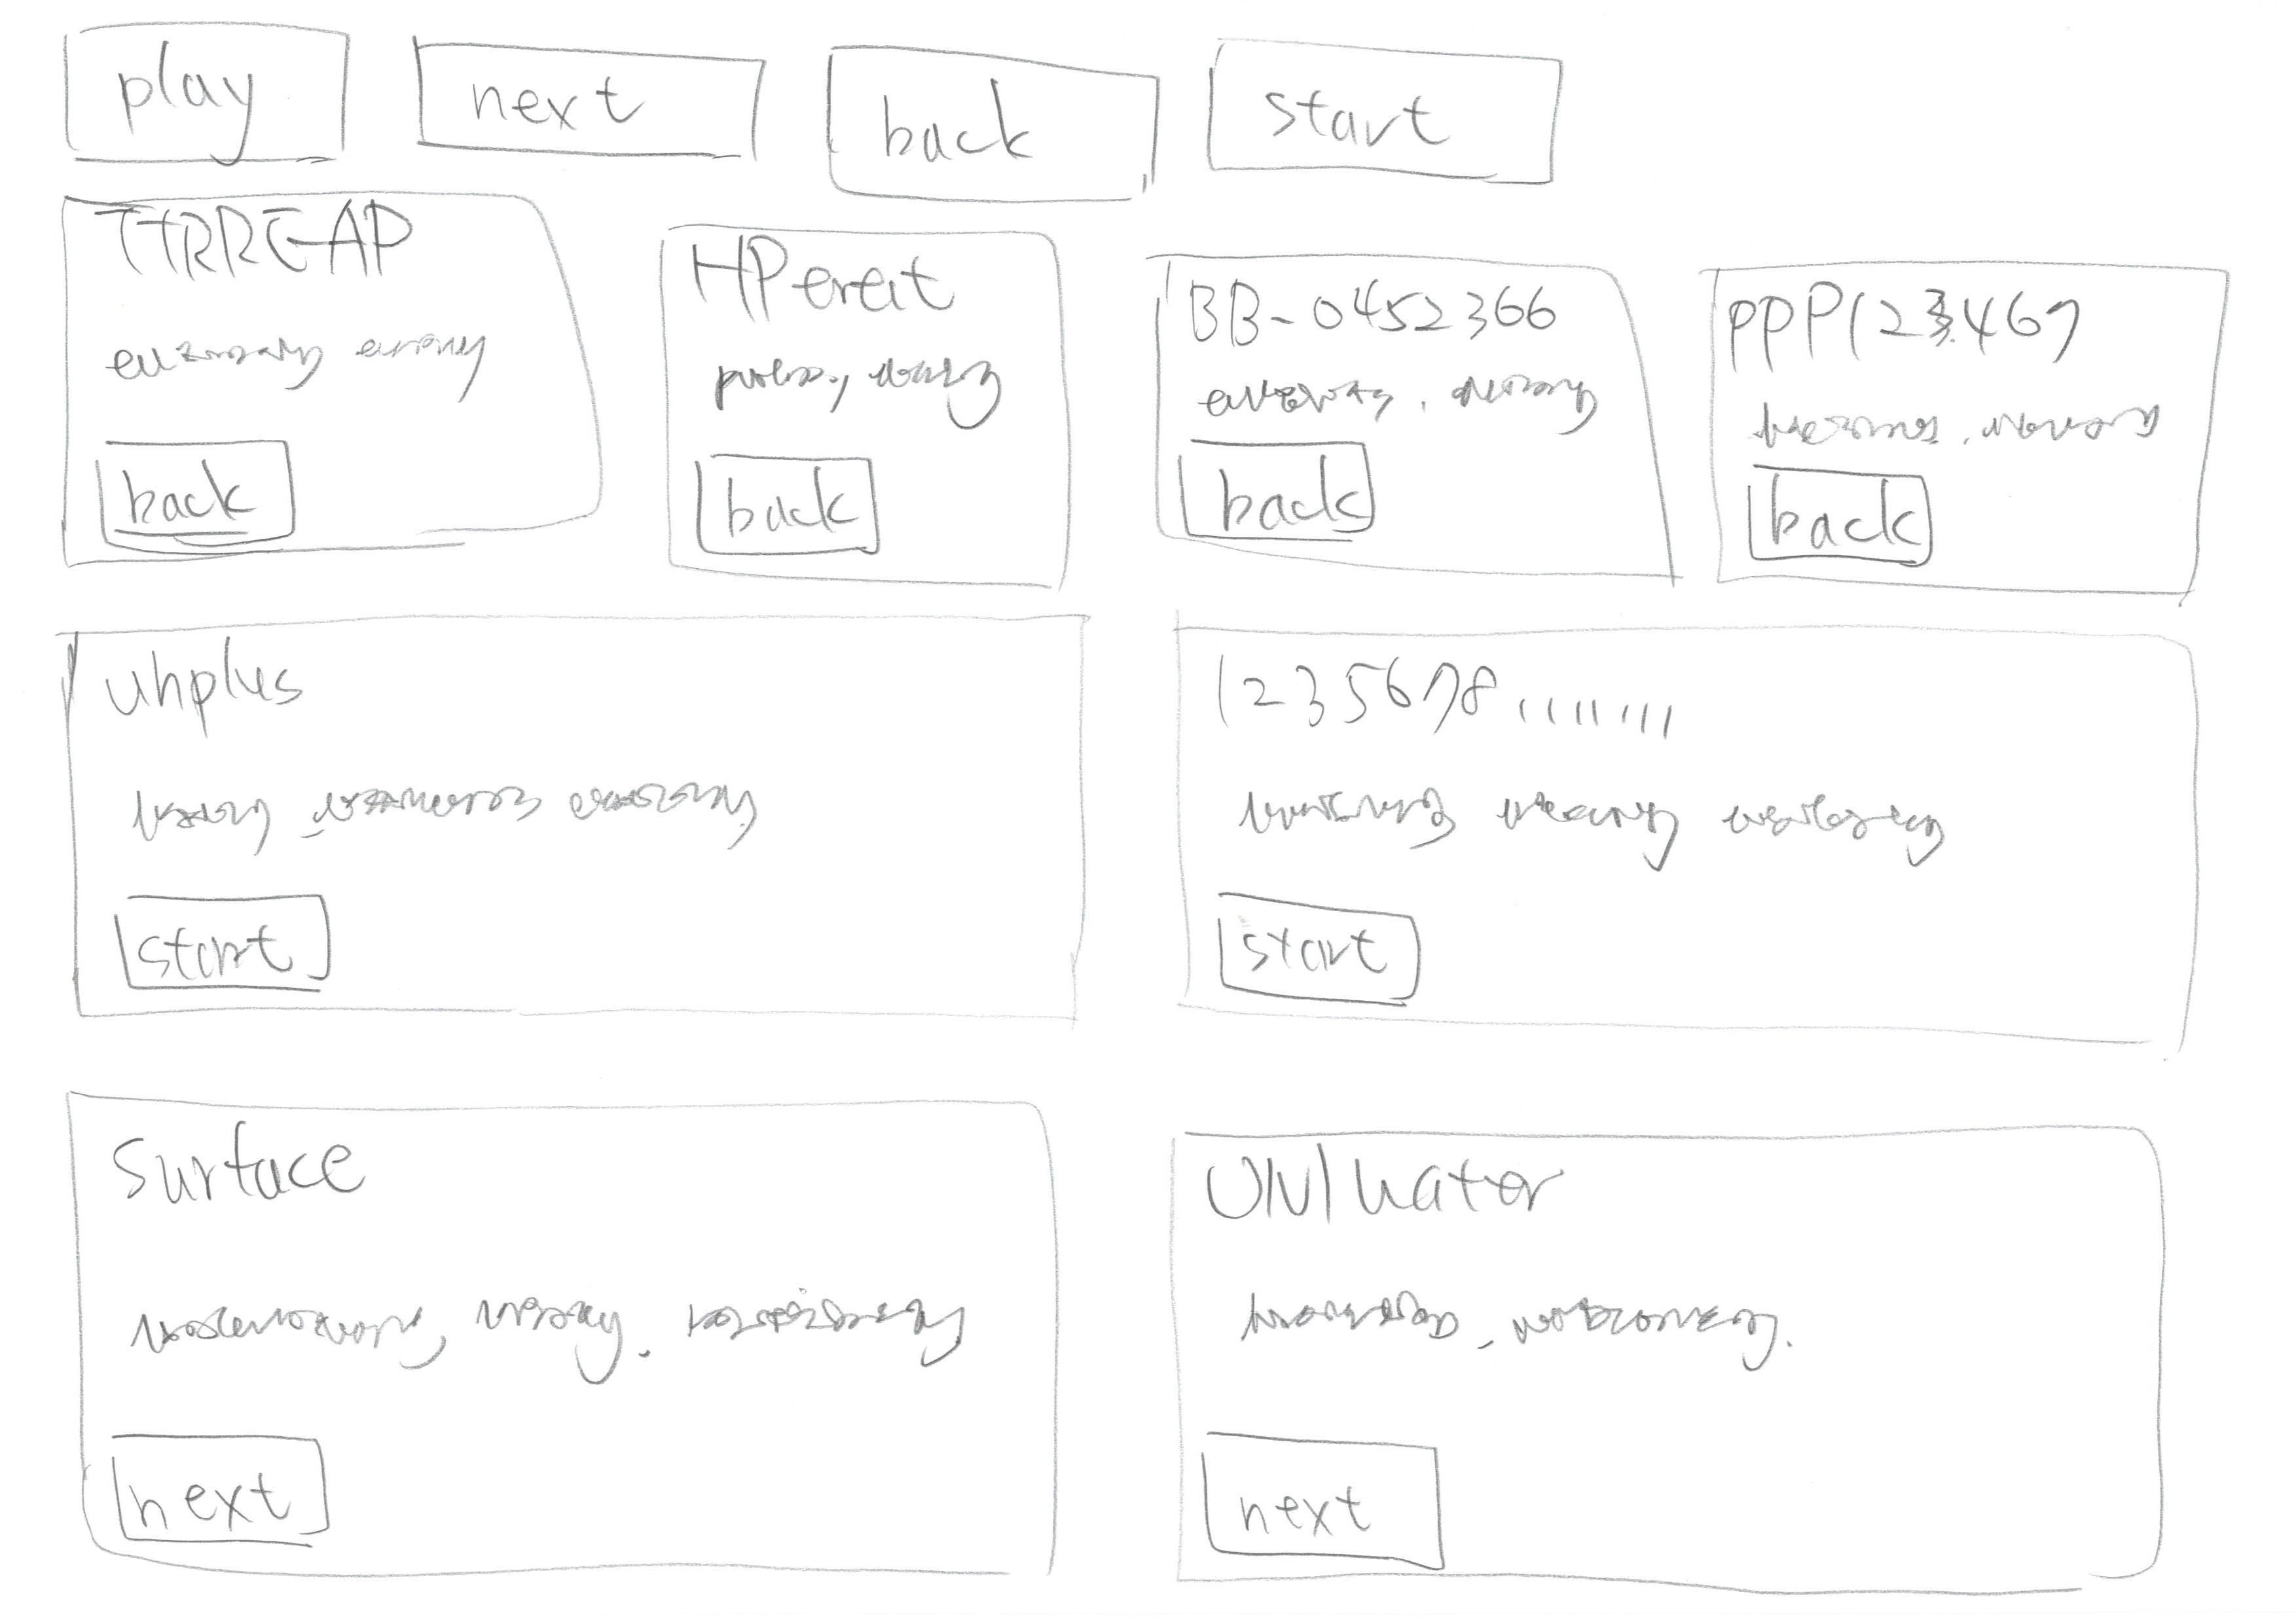back: (805, 18, 1174, 225), (670, 432, 911, 582), (79, 424, 325, 569), (1162, 427, 1412, 559)
double: (35, 1083, 1132, 1591), (1108, 1107, 2203, 1615), (39, 578, 1136, 1065), (1101, 622, 2196, 1109)
next: (1176, 1418, 1529, 1608), (399, 14, 788, 181), (97, 1417, 380, 1589)
play: (40, 11, 378, 174)
quadruple: (42, 172, 626, 584), (1136, 209, 1695, 610), (1679, 213, 2238, 613), (650, 202, 1122, 596)
row: (18, 1077, 2296, 1599), (18, 591, 2296, 1070), (18, 214, 2296, 629), (16, 4, 2294, 216)
small-title: (1208, 642, 1700, 752), (1709, 271, 2111, 371), (91, 1111, 415, 1227), (1202, 1144, 1600, 1234), (86, 642, 378, 750), (1183, 271, 1559, 352), (118, 206, 420, 301), (700, 244, 993, 332)
start: (1195, 16, 1602, 202), (93, 886, 408, 1018), (1201, 870, 1463, 1026)
text: (130, 1258, 1014, 1394), (130, 768, 810, 872), (1236, 770, 1960, 865), (1231, 1272, 1834, 1376), (1190, 352, 1631, 438), (86, 316, 508, 401), (1770, 383, 2147, 466), (719, 352, 1027, 427)
